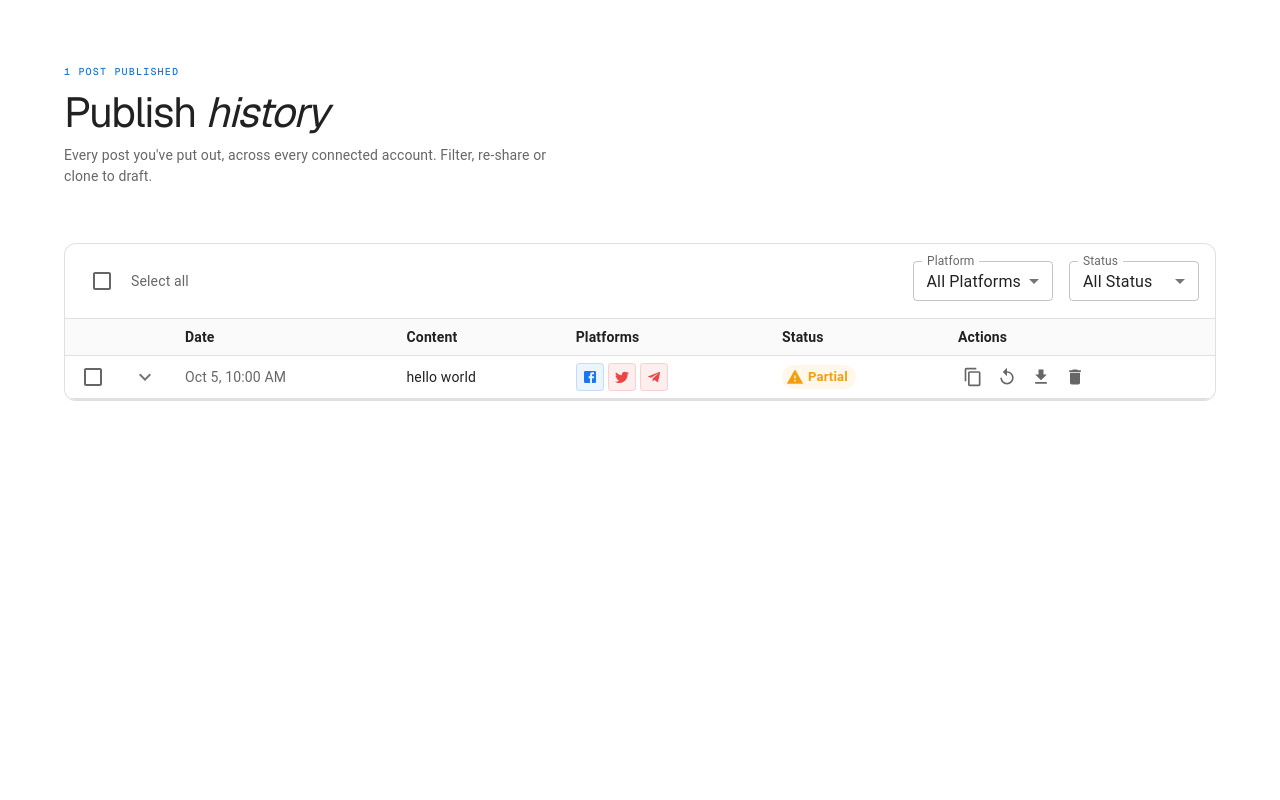
History retry › retries all failed destinations of an entry at once
This screenshot has width=1280, height=800.
Click the button named "Retry all failed destinations of post 99" at x=1007, y=377, box [992,362,1022,392]
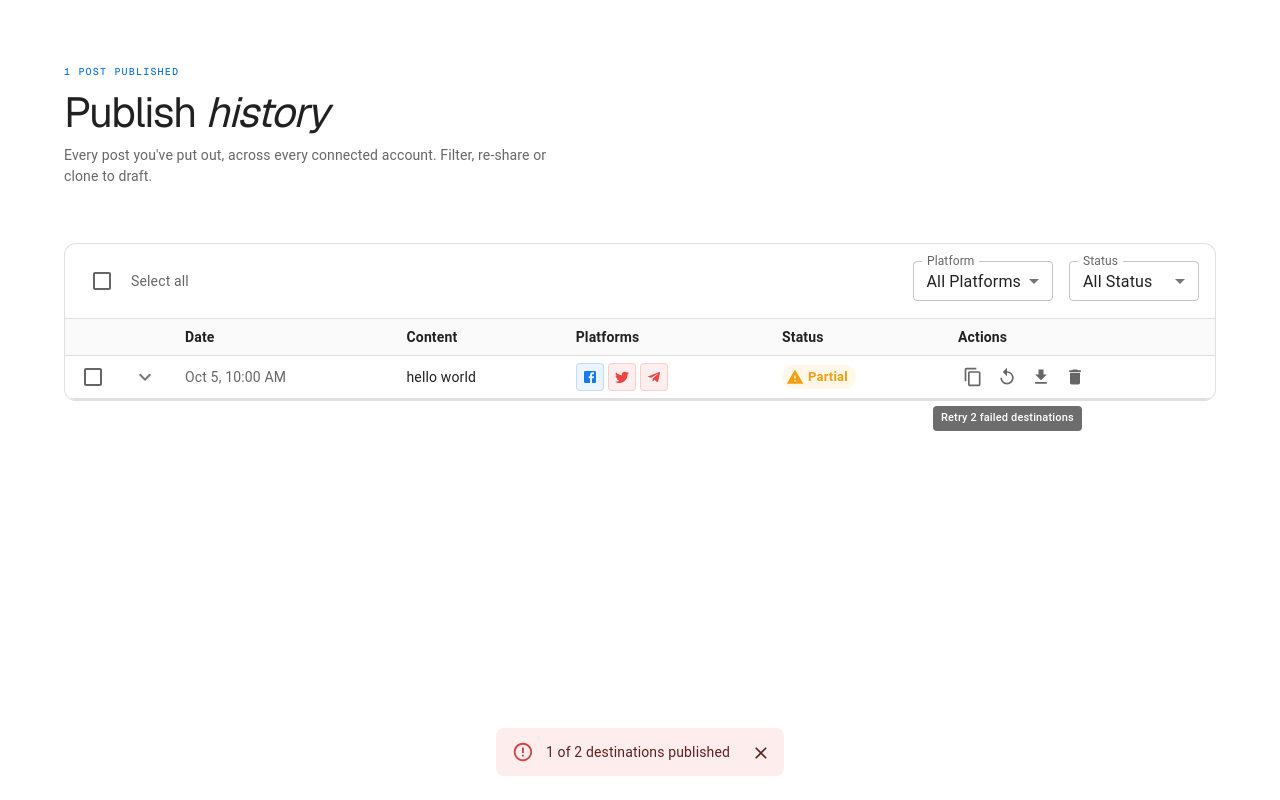
Expected: the text "1 of 2 destinations published" is shown, [546,744,730,760]
